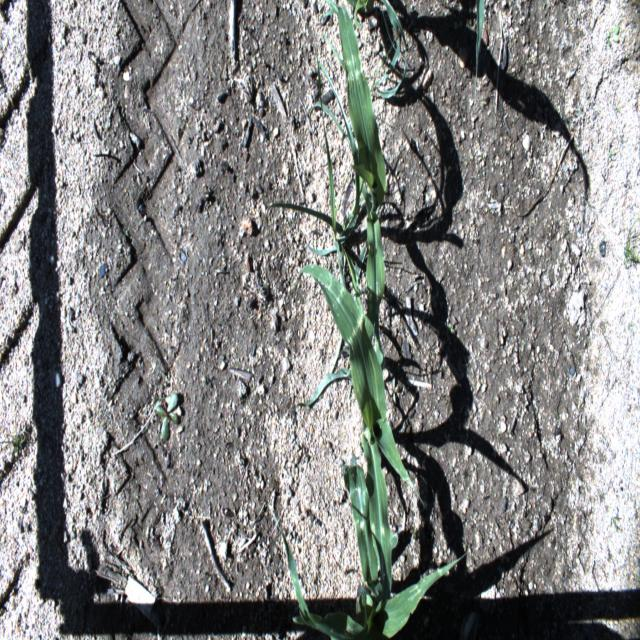crop: (292, 264, 424, 606), (271, 457, 469, 639), (298, 0, 387, 404), (474, 0, 485, 103)
weed: (263, 51, 372, 374), (370, 0, 406, 97), (156, 392, 178, 440), (1, 425, 30, 460), (624, 217, 640, 265), (345, 1, 368, 30), (608, 26, 620, 46), (449, 321, 453, 336), (607, 150, 616, 156)
